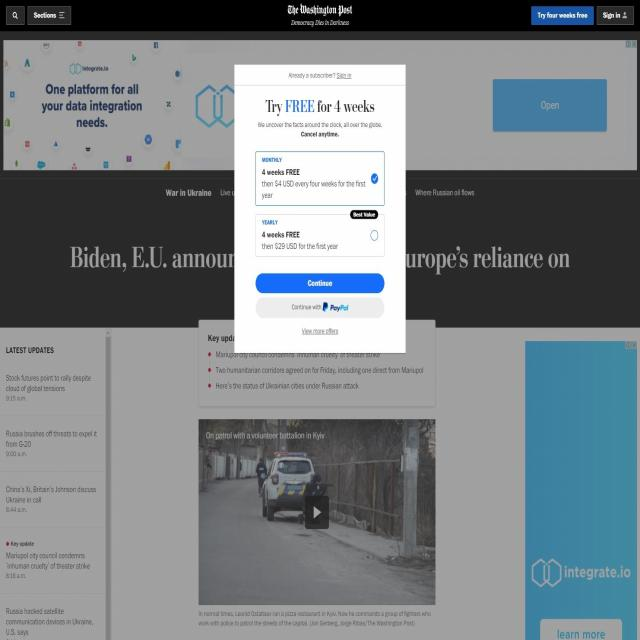button: (254, 272, 386, 295), (254, 296, 386, 318), (532, 7, 594, 26), (6, 6, 26, 26)
